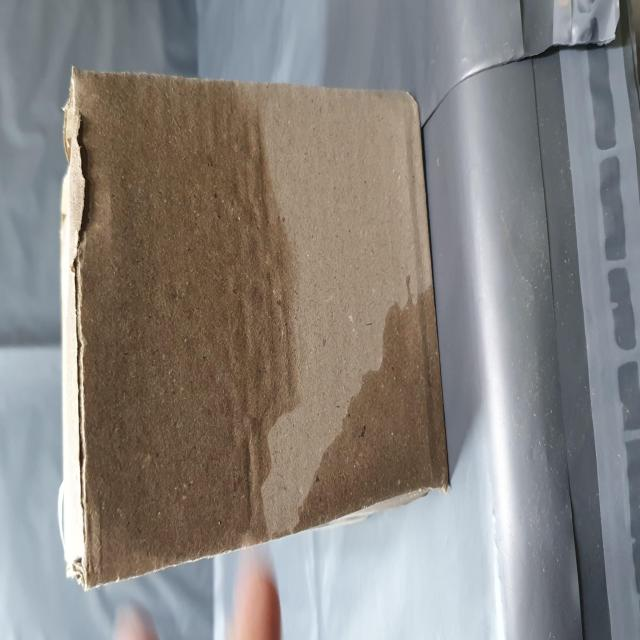wet: (37, 147, 313, 490), (58, 536, 201, 640)
